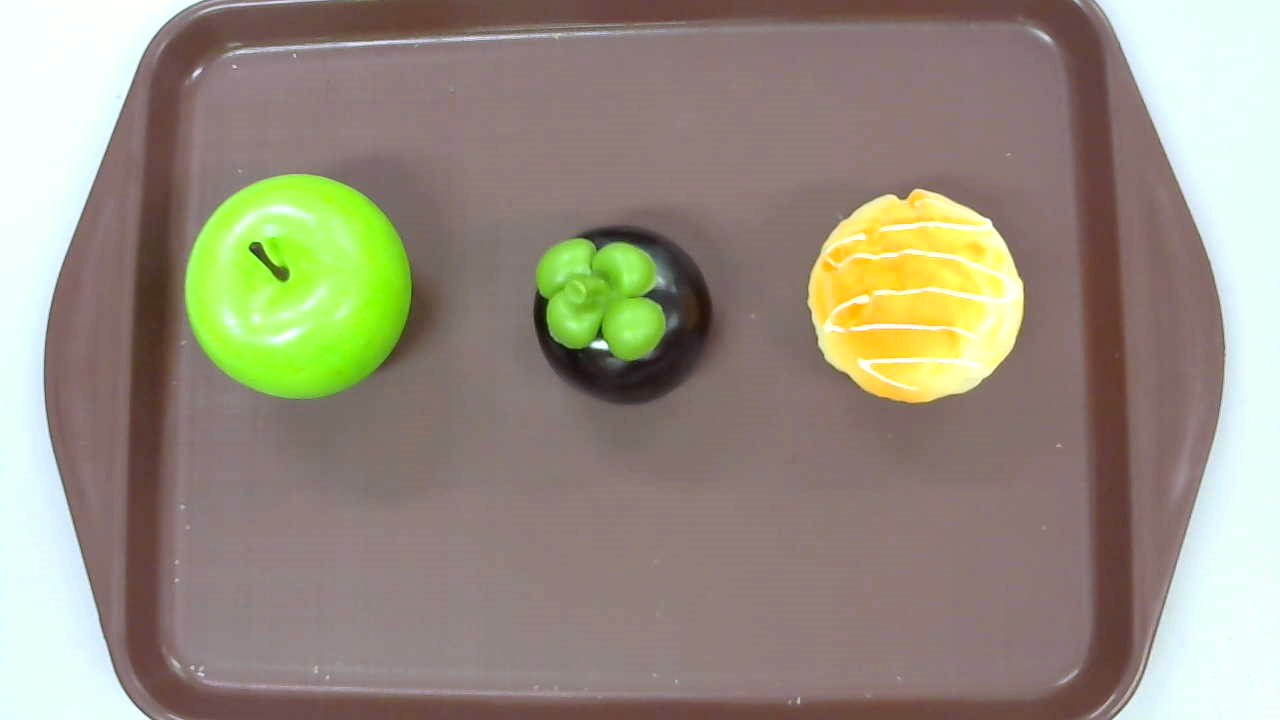cupcake: (808, 189, 1023, 405)
green apple: (183, 172, 411, 399)
mangosteen: (531, 226, 713, 407)
